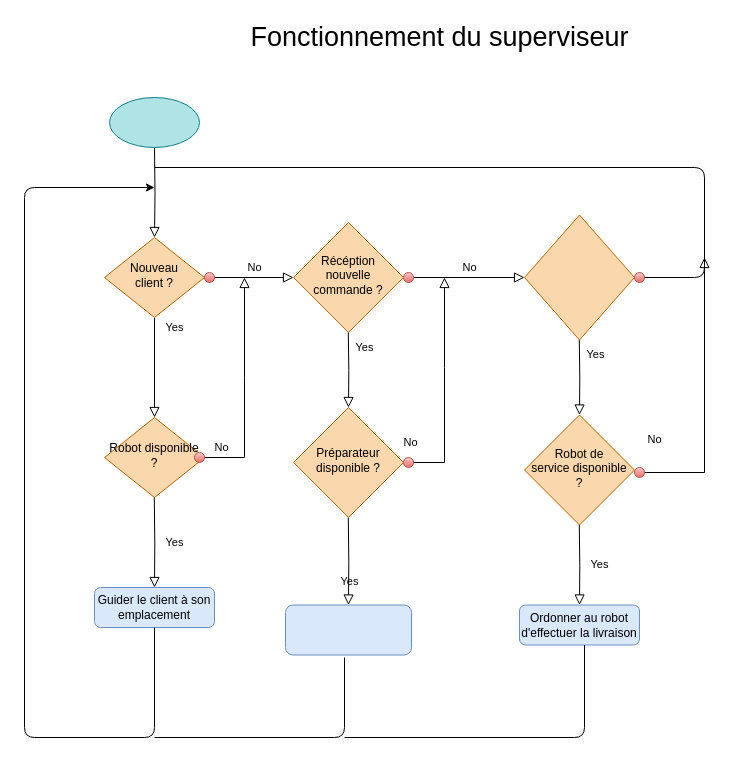
Some shapes in this 732 by 763 pixel diagram are drawn without their labels. The box of each missing label's shape, as (x1, y1, x2, y2) in pixels:
Commande en attente de livraison ?: (524, 214, 634, 340)
Début: (108, 96, 200, 148)
Ordonner au préparateur de traiter la commande: (284, 604, 412, 655)
